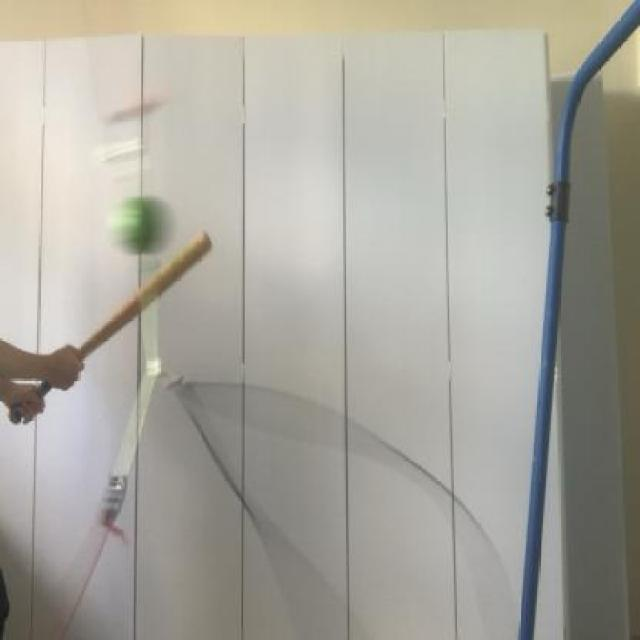baseball: (105, 166, 182, 265)
